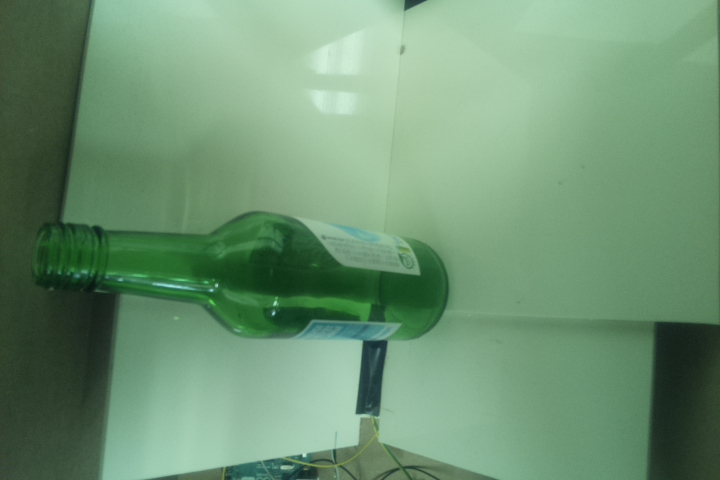soju: (31, 208, 448, 342)
